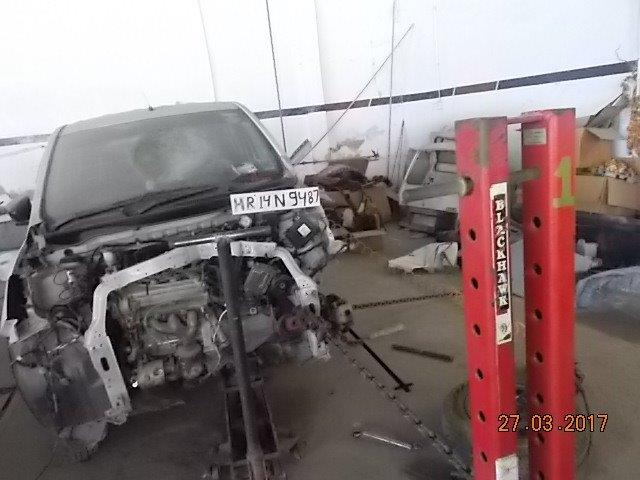Large_tear_or_damage: (31, 211, 338, 435)
